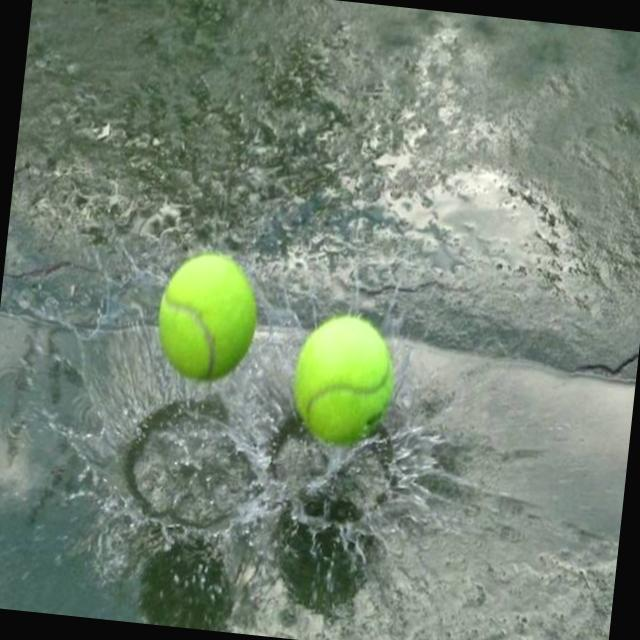Tennis Ball: (152, 247, 266, 384), (285, 310, 394, 450), (148, 246, 260, 380)
